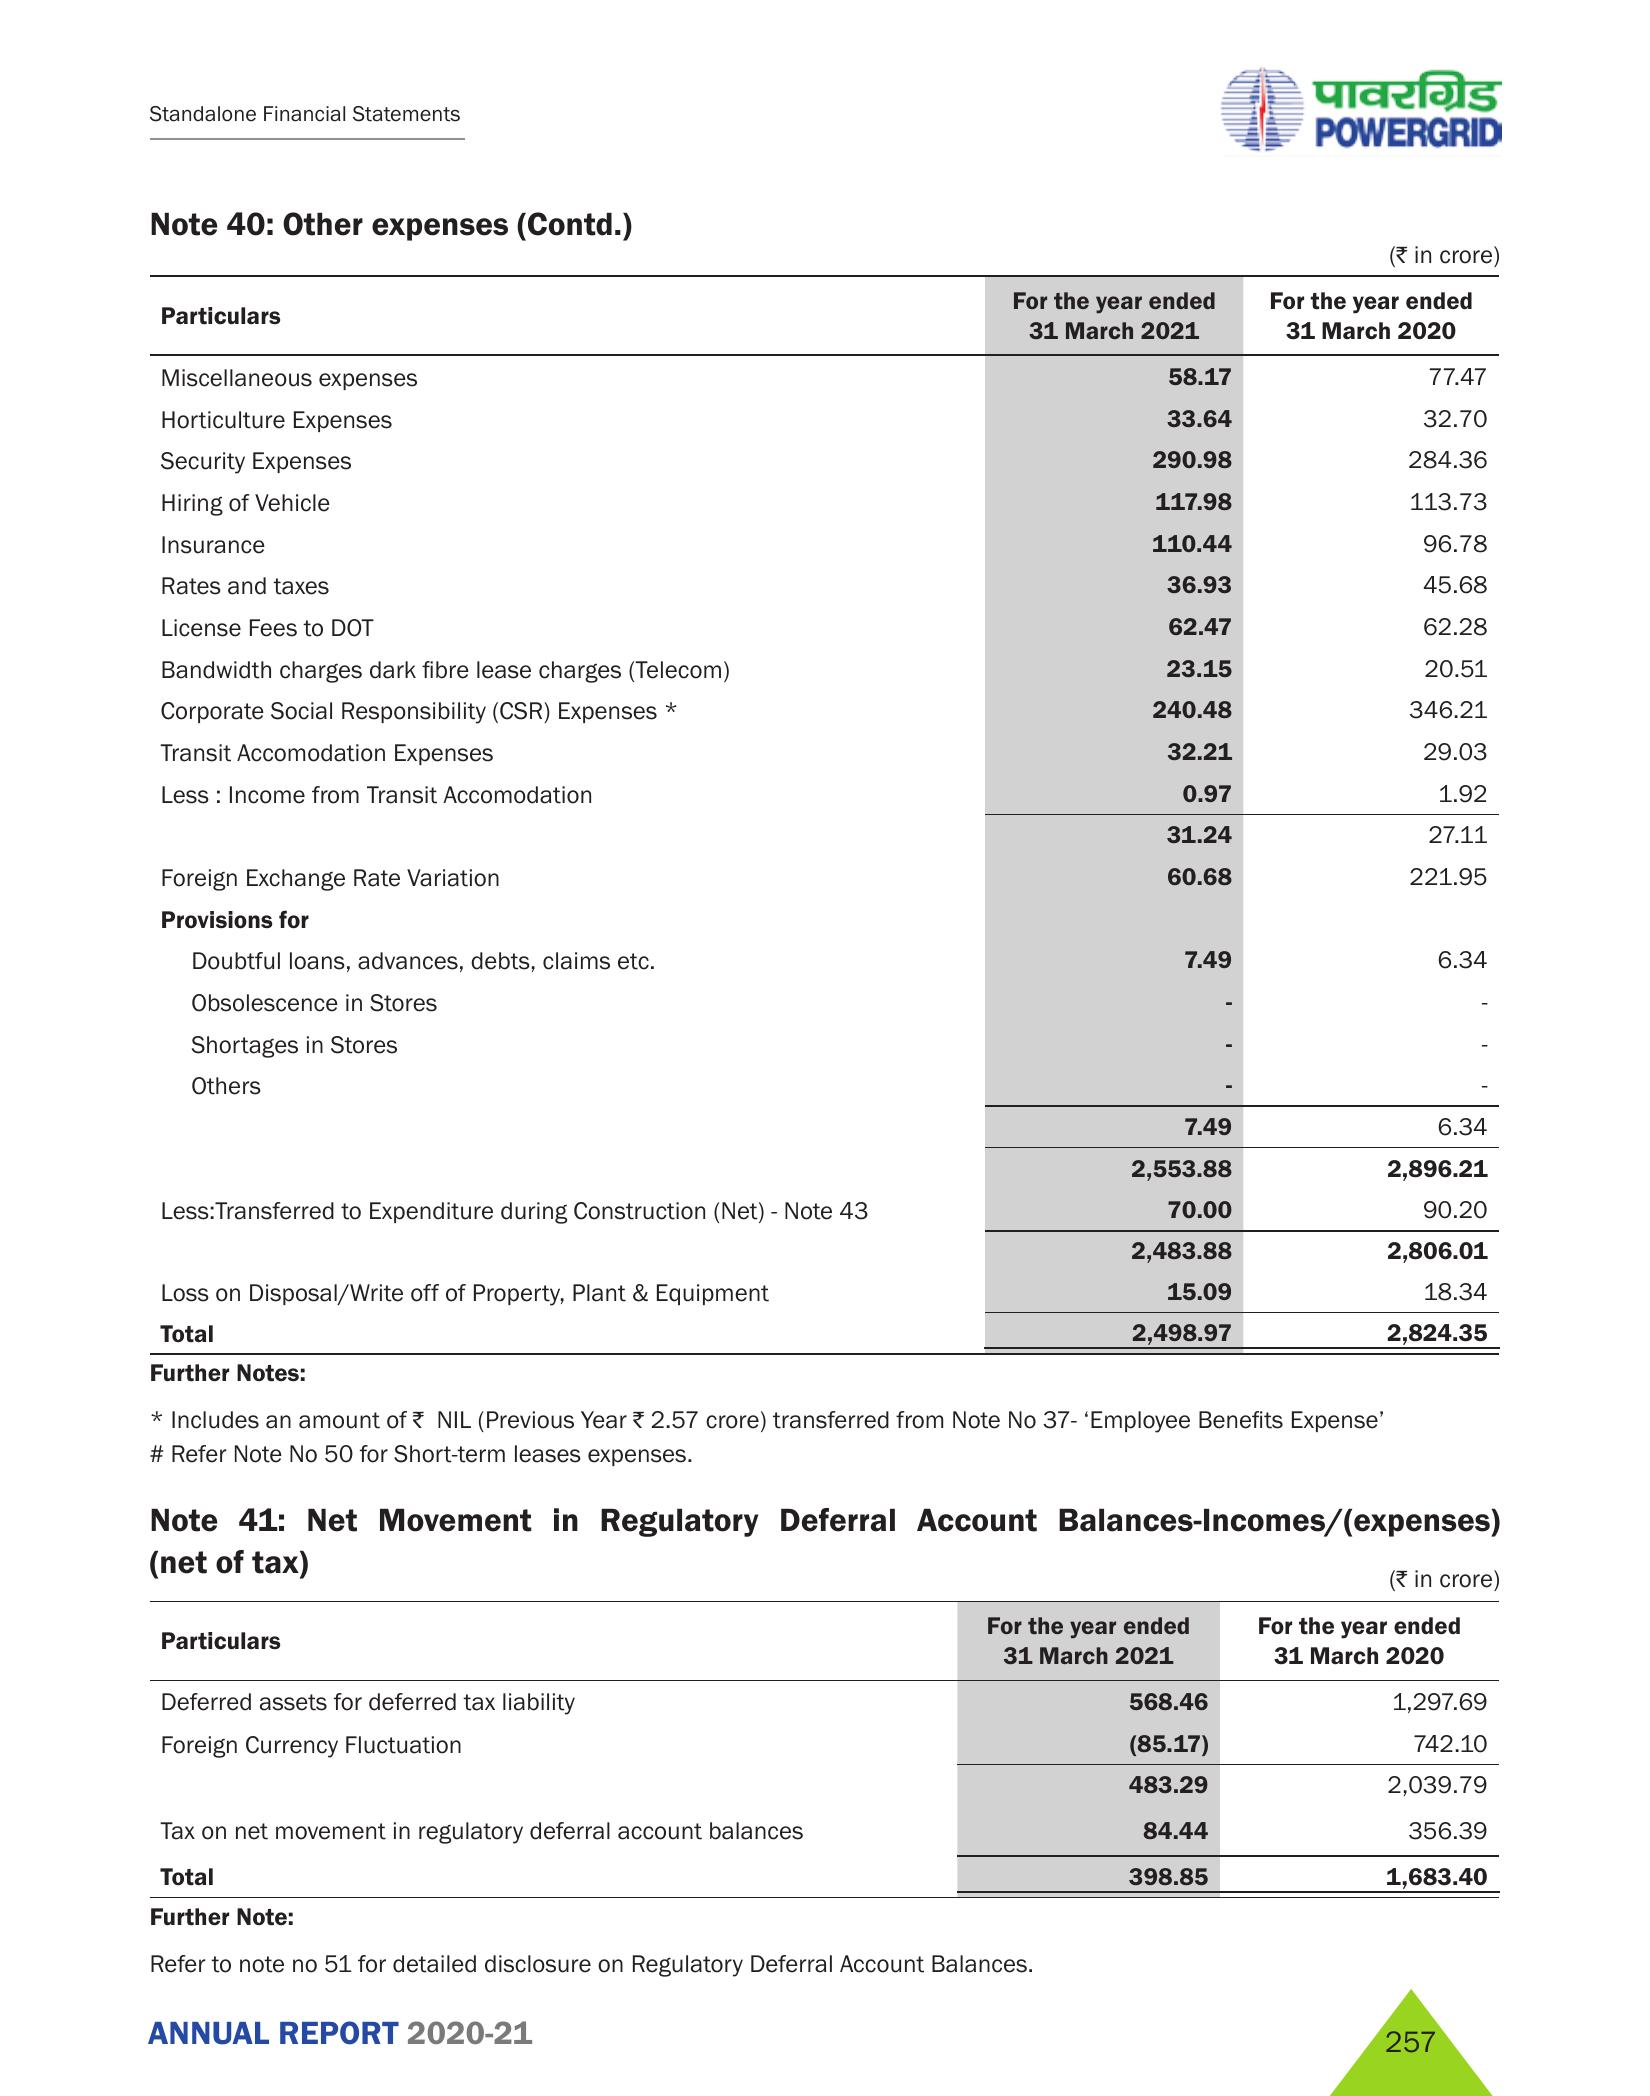Footer: (0, 1974, 1650, 2096)
Header: (0, 0, 1650, 180)
Table: (105, 274, 1539, 1353), (129, 1598, 1511, 1900)
